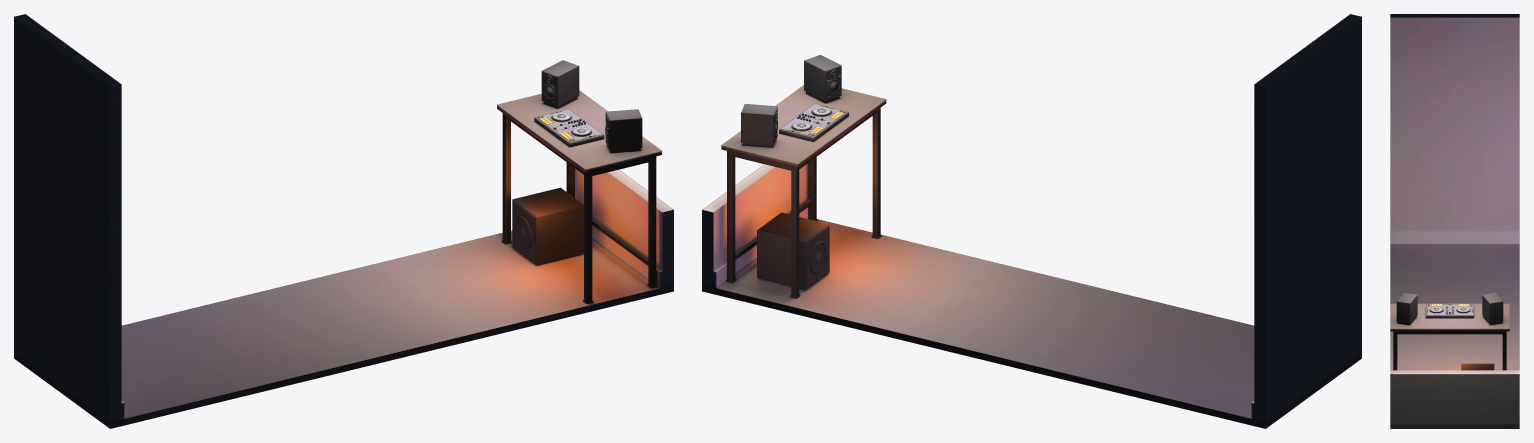
The model's file is dj-corner-v1.glb.
The picture shows the model from 3 angles, left to right: view 1: azimuth 30°, elevation 25°; view 2: azimuth 150°, elevation 25°; view 3: azimuth 270°, elevation 25°; orthographic projection. The views are drawn at different scales.
Visible parts, largest first — view 1: dj_ext_shell, dj_table, dj_sub, dj_dm40_l, dj_dm40_r, dj_flx4; view 2: dj_ext_shell, dj_table, dj_sub, dj_dm40_r, dj_dm40_l, dj_flx4; view 3: dj_ext_shell, dj_table, dj_dm40_l, dj_dm40_r, dj_flx4, dj_sub.
Part boxes in pixels (x1,y1,x2,y2): dj_ext_shell: [14, 14, 673, 428]; dj_table: [497, 90, 661, 303]; dj_sub: [512, 187, 583, 264]; dj_dm40_l: [605, 109, 642, 152]; dj_dm40_r: [541, 60, 579, 108]; dj_flx4: [534, 108, 604, 146]; dj_ext_shell: [702, 14, 1361, 428]; dj_table: [721, 85, 886, 298]; dj_sub: [757, 212, 829, 289]; dj_dm40_r: [741, 104, 777, 147]; dj_dm40_l: [804, 55, 841, 102]; dj_flx4: [779, 103, 848, 141]; dj_ext_shell: [1390, 14, 1519, 428]; dj_table: [1390, 303, 1509, 370]; dj_dm40_l: [1396, 292, 1417, 324]; dj_dm40_r: [1482, 292, 1503, 324]; dj_flx4: [1426, 304, 1473, 318]; dj_sub: [1461, 363, 1494, 370].
Bounding box in the file's own units: 4.4 × 2.55 × 1.3.
2 materials, 2 textured.
